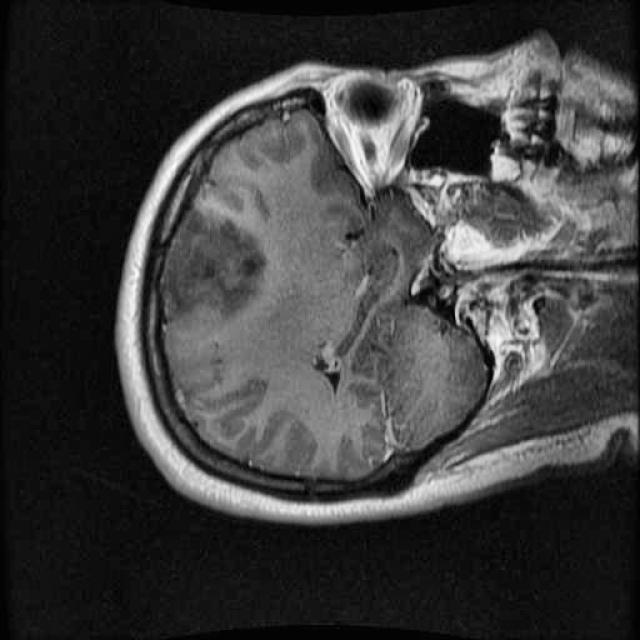Tumor: (142, 190, 277, 350)
